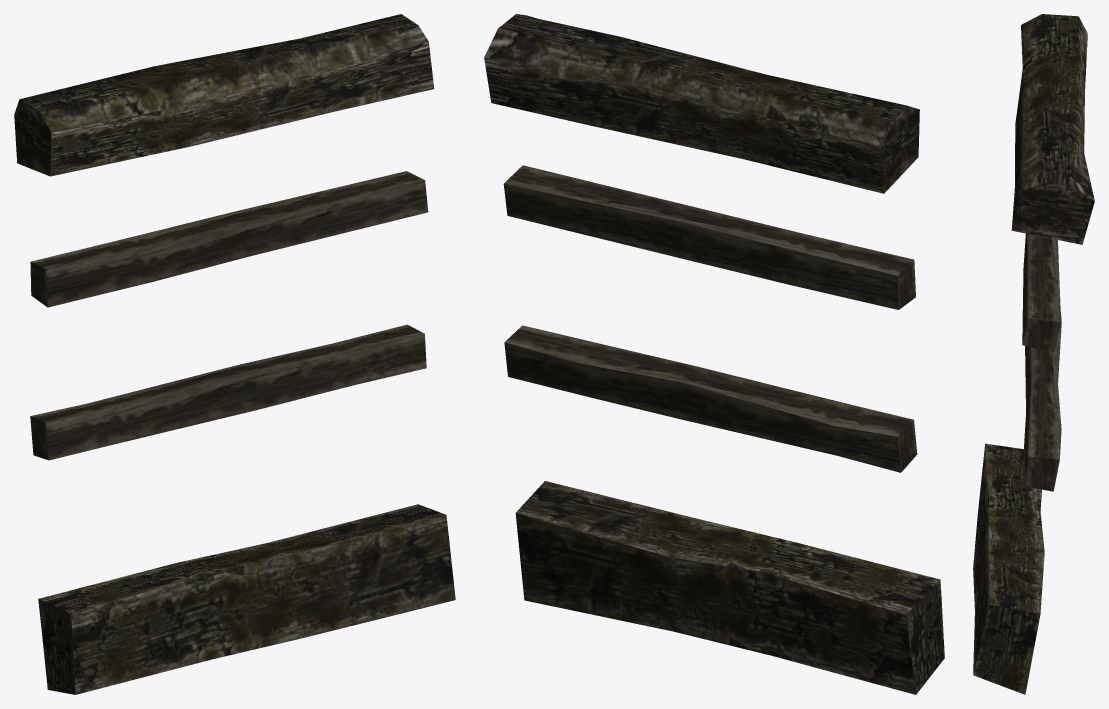
Rendered from railing_wood_1m.DAE.
3 views of the same model, side by side, from view 1: azimuth 30°, elevation 25°; view 2: azimuth 150°, elevation 25°; view 3: azimuth 270°, elevation 25° (orthographic). The views are drawn at different scales.
Parts seen in each view (by area): view 1: polySurface019; view 2: polySurface019; view 3: polySurface019.
Part boxes in pixels (left/top/right/bottom): polySurface019: left=14, top=14, right=455, bottom=694; polySurface019: left=484, top=14, right=944, bottom=694; polySurface019: left=973, top=14, right=1094, bottom=694.
Bounding box in the file's own units: 0.9996 × 1.45 × 0.311.
